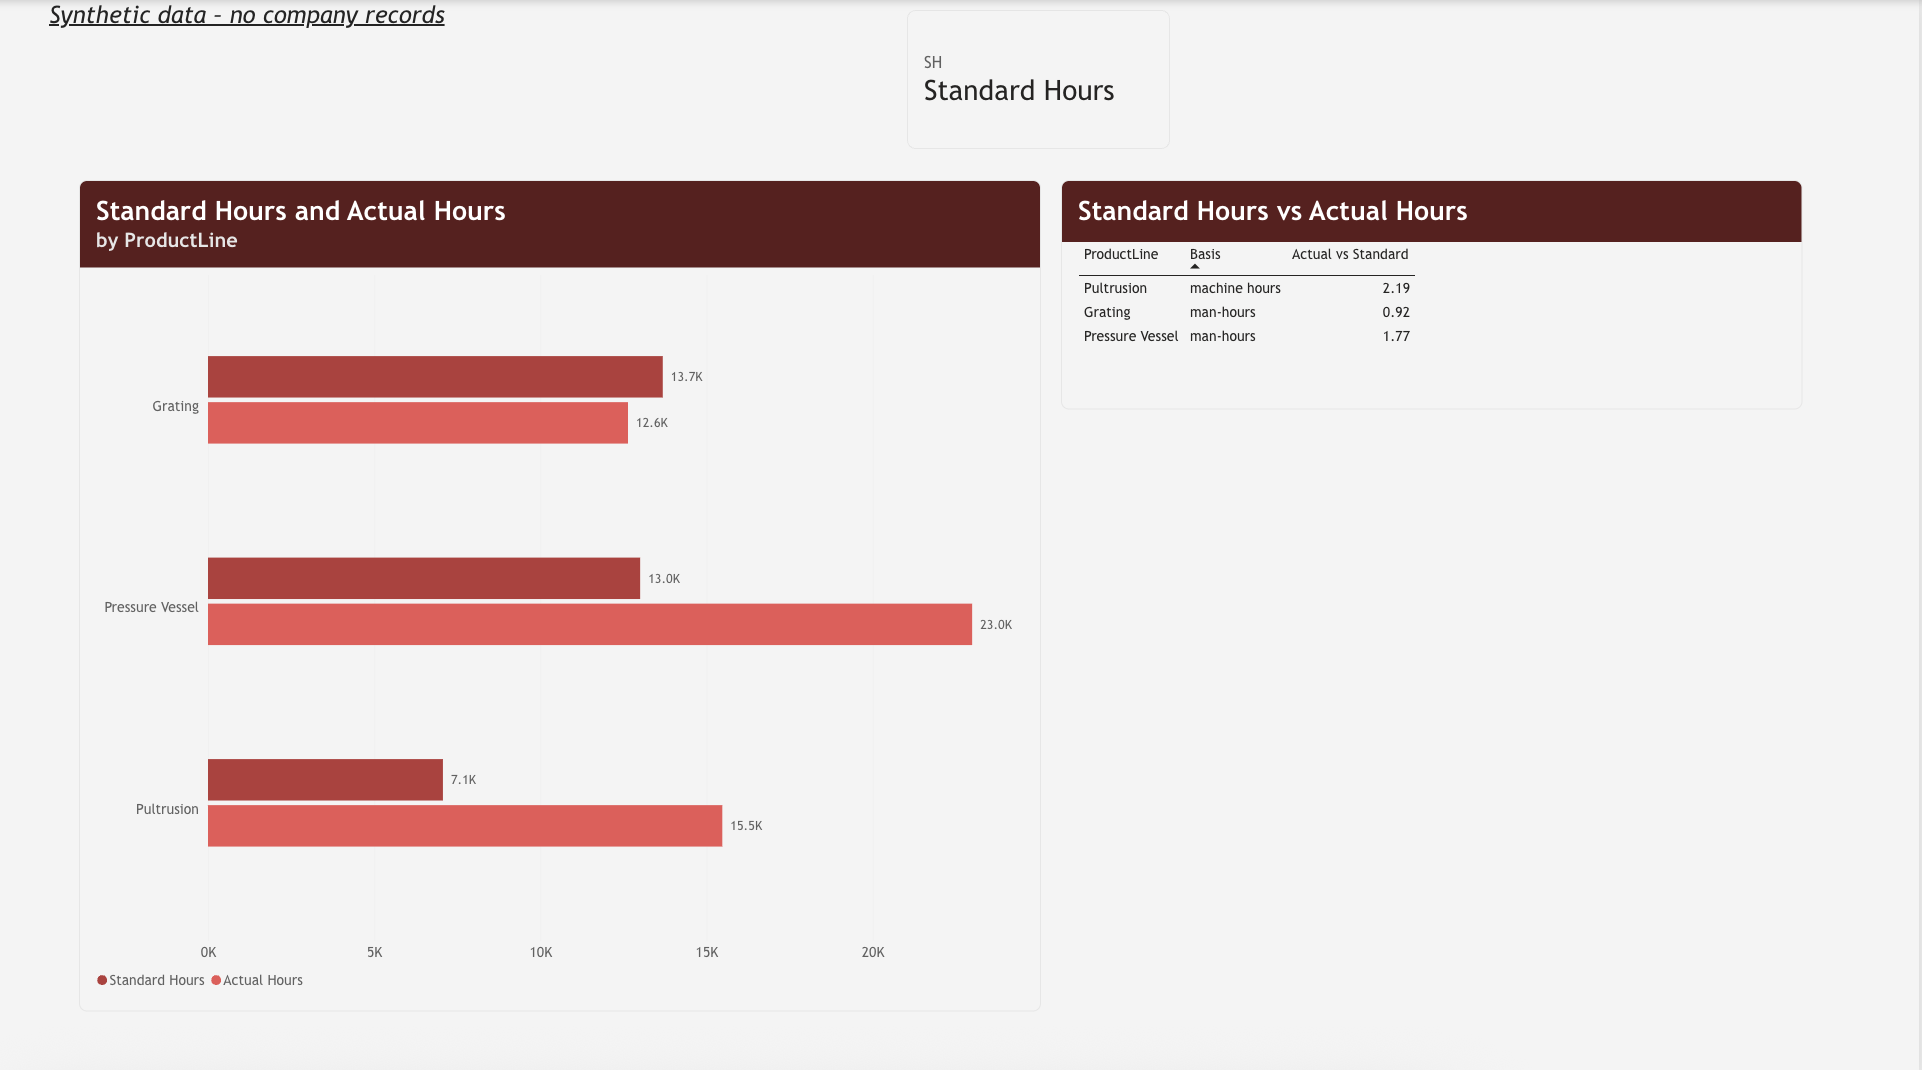

The page's visual inventory and layout, read from the dashboard file:
{"tool":"powerbi","page":{"name":"Standard Hours","canvas":[1920,1080],"ordinal":3},"visuals":[{"type":"textbox","box":[9.7,0,501.1,80.3],"z":0},{"type":"clusteredBarChart","fields":{"Category":["tblProductLines.ProductLine"],"Y":["Sum(tblStdVsActual.StdHours)","Sum(tblStdVsActual.ActualHours)"]},"box":[79.3,180,962.1,831.4],"z":1000},{"type":"tableEx","title":"Standard Hours vs Actual Hours","fields":{"Values":["tblProductLines.ProductLine","tblStdVsActual.Basis","tblStdVsActual.Actual vs Standard"]},"box":[1062.9,180,741.4,229.3],"z":2000},{"type":"cardVisual","fields":{"Data":["tblCalendar.SH"]},"box":[908.6,10.7,263.6,139.3],"z":3000}]}

Visuals, with their boxes in screenshot pixels (x1, y1, x2, y2), scaled from the page's 1920x1080 canvas onto the 1922x1070 screenshot:
textbox: BBox(10, 0, 511, 80)
clusteredBarChart - tblProductLines.ProductLine x Sum(tblStdVsActual.StdHours): BBox(79, 178, 1042, 1002)
"Standard Hours vs Actual Hours" tableEx: BBox(1064, 178, 1806, 406)
cardVisual - tblCalendar.SH: BBox(910, 11, 1173, 149)
